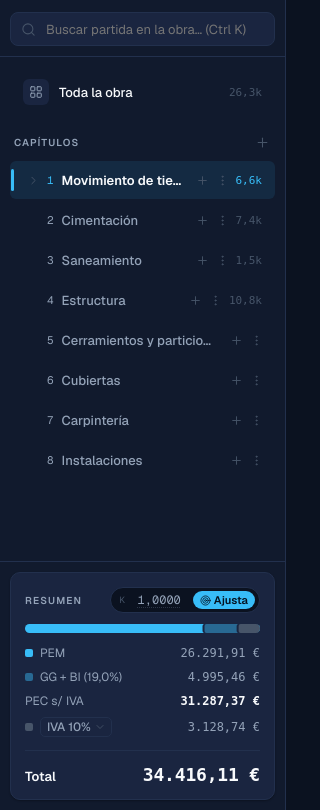
Test: Sidebar — Subir/Bajar de los menús ⋮ (vía táctil y de teclado) › el menú del capítulo sube y baja, y se deshabilita en los bordes
Click the button named "Acciones del capítulo" next to "7,4k": (218, 220) x1=210 y1=211 x2=228 y2=229
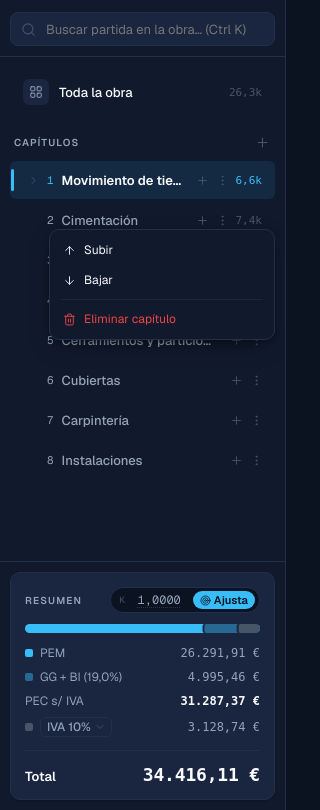
Click the button "Subir": (162, 250) x1=55 y1=235 x2=269 y2=265
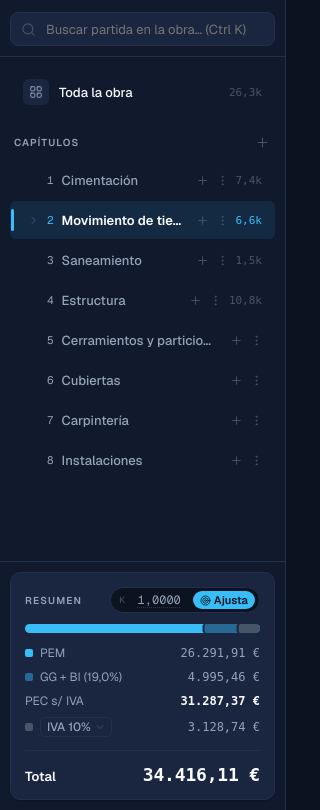
Click the button named "Acciones del capítulo" next to "7,4k": (218, 180) x1=210 y1=171 x2=228 y2=189
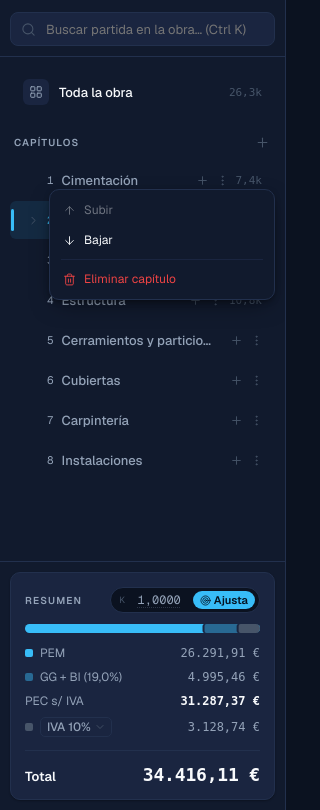
Expected: the button "Subir" is disabled, x1=55 y1=195 x2=269 y2=225
